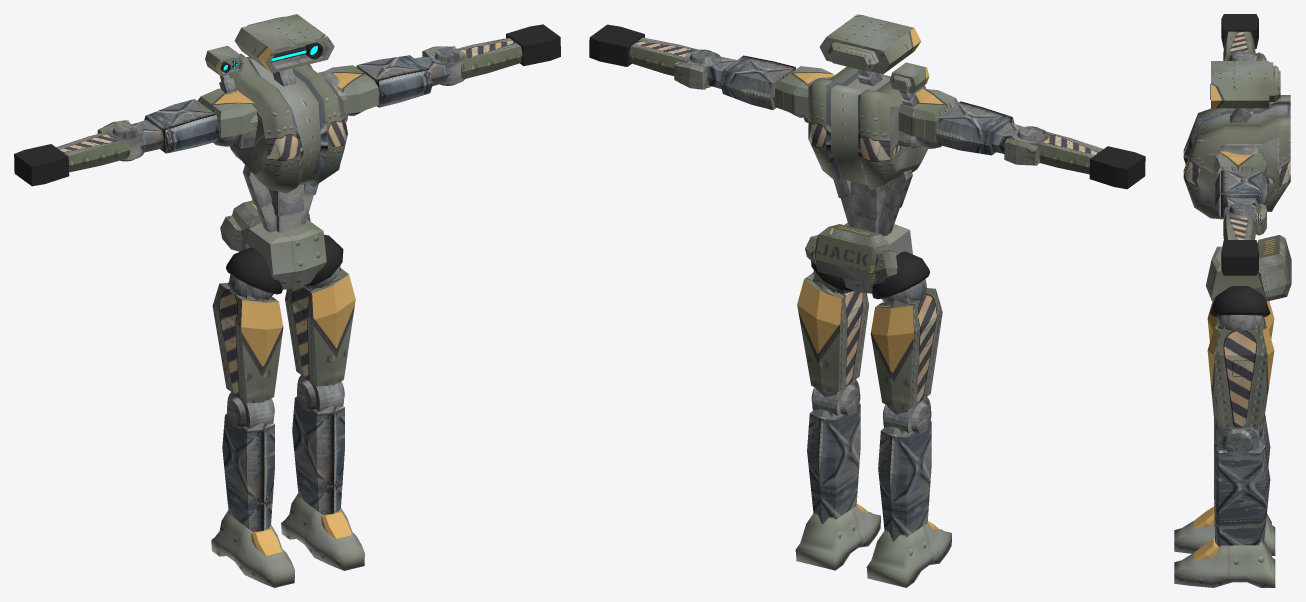
File: robot 4 rig.fbx
The picture shows the model from 3 angles, left to right: view 1: azimuth 30°, elevation 25°; view 2: azimuth 150°, elevation 25°; view 3: azimuth 270°, elevation 25°; orthographic projection. The views are drawn at different scales.
Parts seen in each view (by area): view 1: Cube, Cube.031, Icosphere, Cylinder.004, Cylinder.003, Icosphere.001, Icosphere.004, Icosphere.005, Cube.001, Cube.016, Cube.018, Cylinder.005 (+5 smaller); view 2: Cube, Icosphere, Cube.031, Icosphere.001, Cylinder.004, Cylinder.003, Icosphere.004, Icosphere.005, Cube.001, Cube.018, Cube.016, Cube.002 (+5 smaller); view 3: Cube, Icosphere.001, Cylinder.004, Cube.031, Cube.016, Cube.001, Icosphere.005, Cube.018, Cylinder.005, Cube.005, Cylinder.002, Cube.017 (+3 smaller).
Part boxes in pixels (x1,y1,x2,y2): Cube: (229,54,348,193); Cube.031: (220,200,343,294); Icosphere: (212,274,283,403); Cylinder.004: (292,375,344,514); Cylinder.003: (222,392,274,532); Icosphere.001: (285,265,355,386); Icosphere.004: (133,88,257,153); Icosphere.005: (325,55,449,116); Cube.001: (234,14,334,73); Cube.016: (281,493,364,570); Cube.018: (211,510,294,587); Cylinder.005: (422,37,522,85); Cube: (803,66,927,189); Icosphere: (870,279,942,414); Cube.031: (805,222,929,299); Icosphere.001: (797,270,868,397); Cylinder.004: (807,379,860,524); Cylinder.003: (878,397,931,541); Icosphere.004: (898,88,1023,155); Icosphere.005: (707,55,834,117); Cube.001: (819,14,921,74); Cube.018: (866,521,951,587); Cube.016: (795,503,880,570); Cube.002: (833,169,912,236); Cube: (1183,95,1290,219); Icosphere.001: (1207,315,1274,429); Cylinder.004: (1214,426,1270,547); Cube.031: (1206,235,1291,316); Cube.016: (1174,538,1275,587); Cube.001: (1210,61,1280,108); Icosphere.005: (1213,151,1266,217); Cube.018: (1174,506,1275,555); Cylinder.005: (1223,202,1266,239); Cube.005: (1221,240,1258,275); Cylinder.002: (1223,31,1266,60); Cube.017: (1221,14,1258,48).
Size of the model in its own units: 1320 by 1237 by 268.
